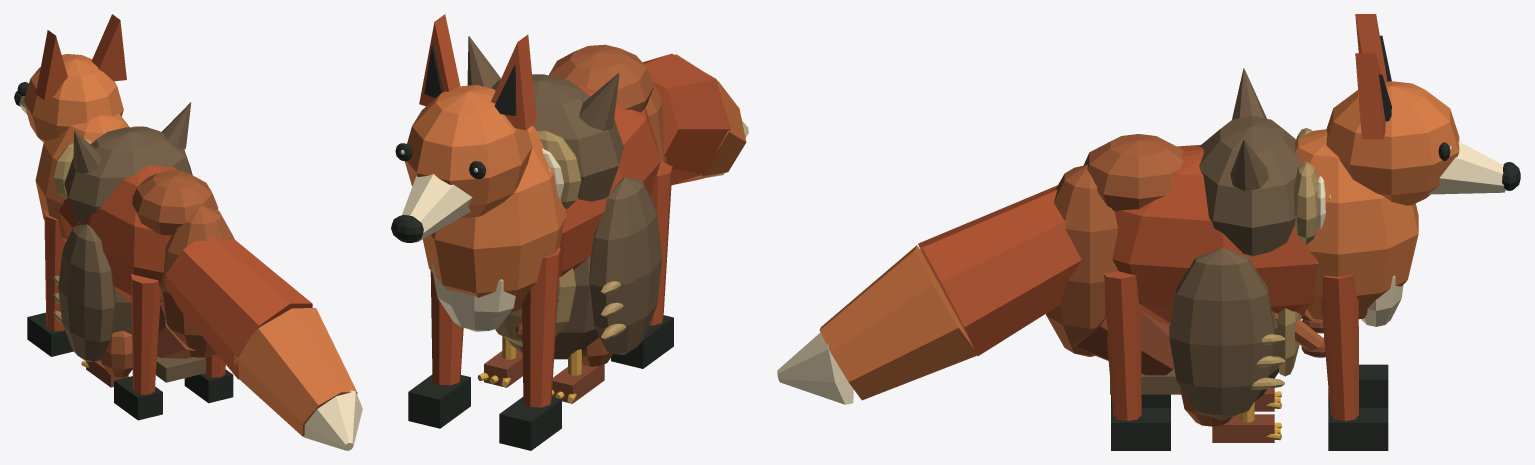
The model's file is wildlife-kit-v4.glb.
3 renders of one model, left to right at view 1: azimuth 30°, elevation 25°; view 2: azimuth 150°, elevation 25°; view 3: azimuth 270°, elevation 25°, orthographic. The views are drawn at different scales.
Parts seen in each view (by area): view 1: Tail.001, Body.001, Tail.002, Head, WingL, Head.001, LegBL, LegFL, LegBL.001, LegBR, EarR, EarL (+2 smaller); view 2: Body.001, Head.001, WingL, Head, Tail.001, LegFL, LegFR, Tail.002, Body, LegBL, EarL, EarR (+4 smaller); view 3: Tail.001, Body.001, Tail.002, WingR, Head, Head.001, LegBR, LegFR, EarR, LegBR.001, Body, LegFL (+3 smaller).
Boxes of the visible parts, left/top/right/bottom form: Tail.001: left=165, top=236, right=362, bottom=450; Body.001: left=35, top=114, right=177, bottom=305; Tail.002: left=132, top=170, right=234, bottom=358; Head: left=54, top=102, right=192, bottom=223; WingL: left=53, top=224, right=116, bottom=362; Head.001: left=14, top=54, right=123, bottom=142; LegBL: left=114, top=274, right=162, bottom=420; LegFL: left=27, top=210, right=73, bottom=356; LegBL.001: left=86, top=330, right=132, bottom=387; LegBR: left=184, top=354, right=233, bottom=403; EarR: left=91, top=14, right=126, bottom=81; EarL: left=36, top=30, right=67, bottom=99; Body.001: left=423, top=82, right=660, bottom=331; Head.001: left=391, top=85, right=532, bottom=242; WingL: left=589, top=177, right=662, bottom=355; Head: left=467, top=36, right=623, bottom=208; Tail.001: left=643, top=53, right=748, bottom=185; LegFL: left=499, top=247, right=561, bottom=450; LegFR: left=408, top=271, right=470, bottom=428; Tail.002: left=549, top=44, right=666, bottom=163; Body: left=495, top=255, right=599, bottom=359; LegBL: left=611, top=161, right=673, bottom=368; EarL: left=491, top=34, right=536, bottom=130; EarR: left=419, top=14, right=460, bottom=106; Tail.001: left=777, top=185, right=1081, bottom=404; Body.001: left=1112, top=129, right=1418, bottom=326; Tail.002: left=1046, top=134, right=1183, bottom=375; WingR: left=1169, top=247, right=1284, bottom=420; Head: left=1199, top=68, right=1330, bottom=256; Head.001: left=1326, top=81, right=1520, bottom=205; LegBR: left=1104, top=271, right=1170, bottom=450; LegFR: left=1321, top=274, right=1388, bottom=450; EarR: left=1355, top=53, right=1391, bottom=139; LegBR.001: left=1180, top=387, right=1274, bottom=442; Body: left=1254, top=308, right=1301, bottom=401; LegFL: left=1328, top=326, right=1388, bottom=407.
Bounding box in the file's own units: 0.482 × 0.965 × 1.68.
